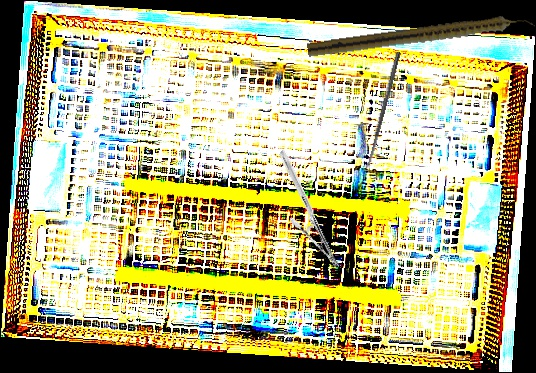Handpiece: (306, 11, 536, 62)
Needle Holder: (243, 148, 376, 271)
Surgical Spoon: (364, 51, 401, 172)
